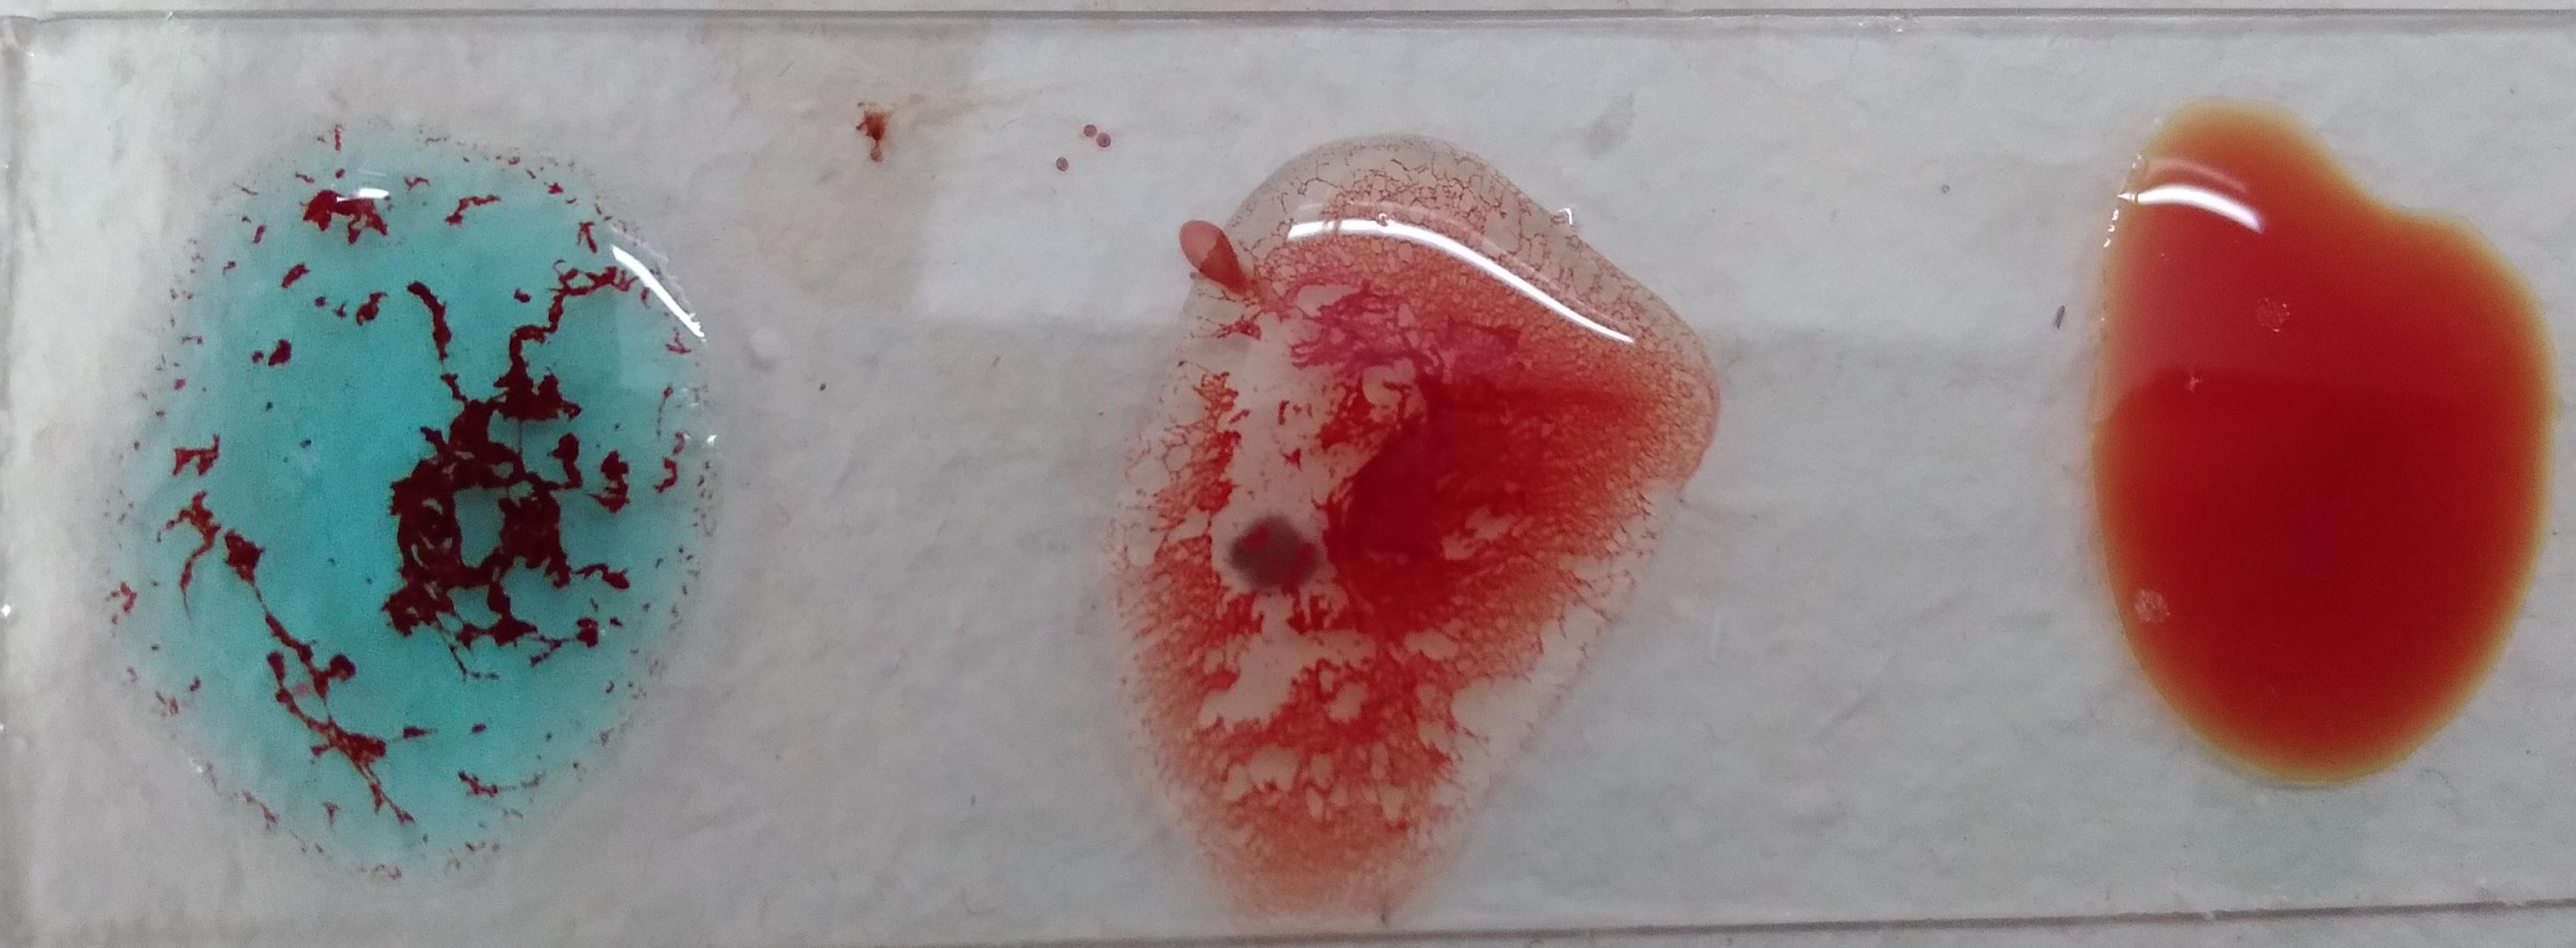A: (1842, 95, 2474, 818)
D: (918, 53, 1424, 817)
